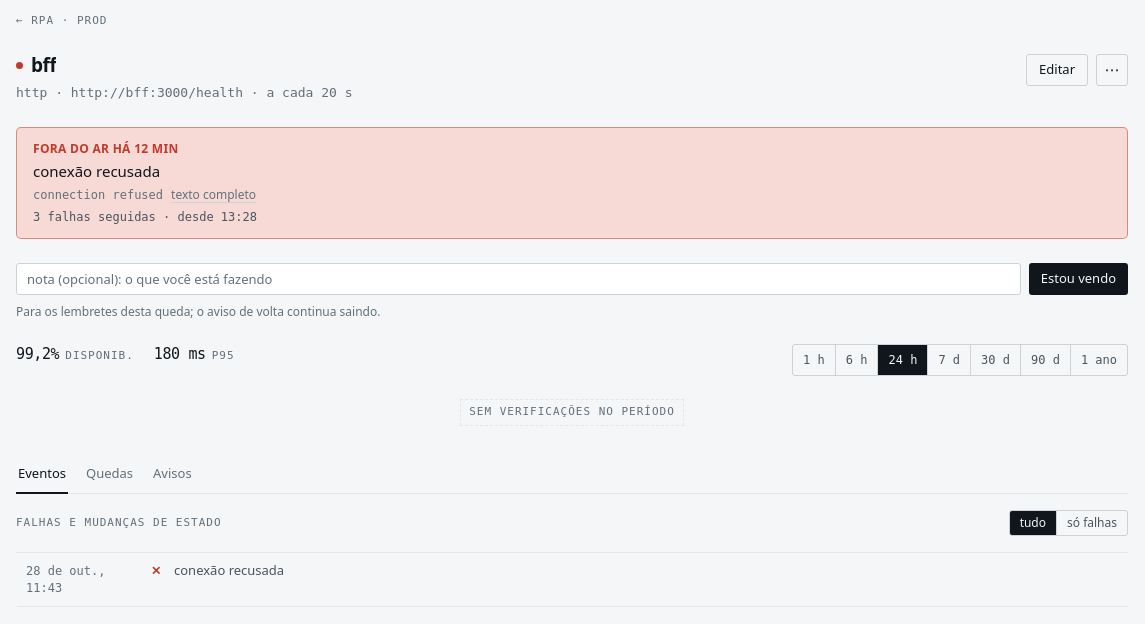
Test case: MonitorDetail: reconhecimento › registra o estou vendo pelo id da queda aberta, com a nota
Type "reiniciando a fila" into the field named "nota do reconhecimento" at (518, 279), box 16,263 -> 1021,295
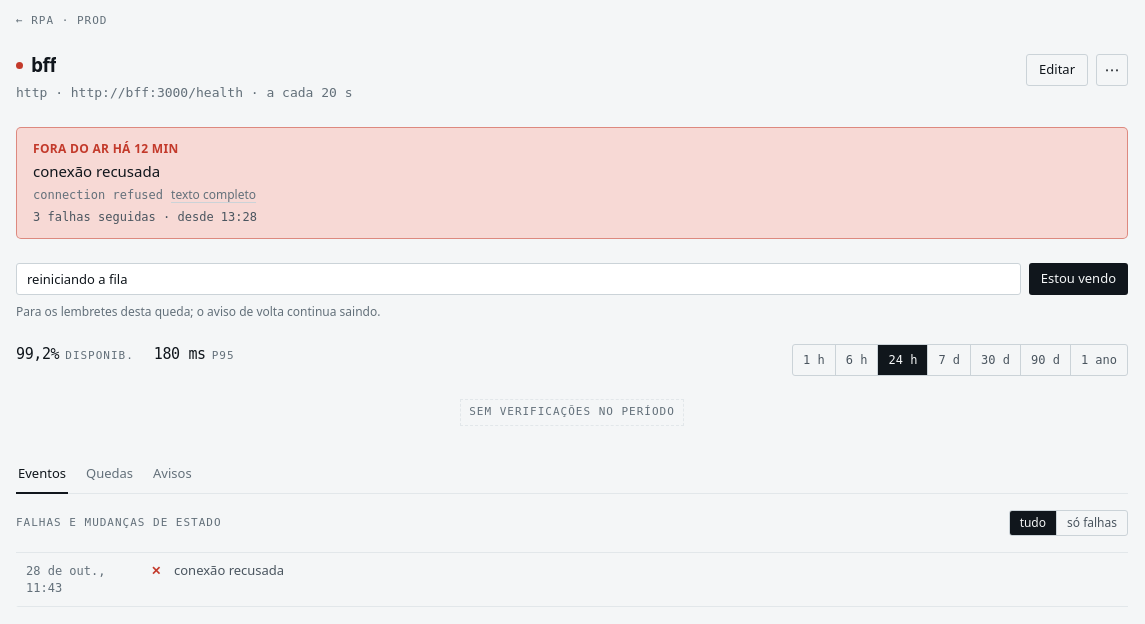
Click the button "Estou vendo" at (1078, 279), box 1029,263 -> 1128,295
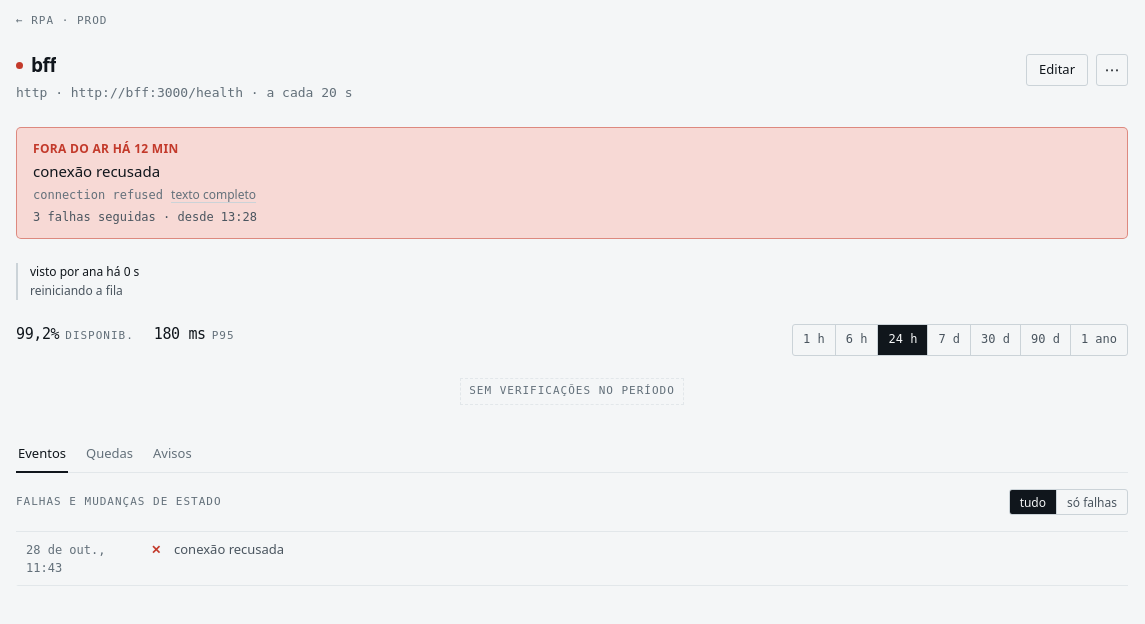
Now the text "visto por ana há 0 s" is shown, box 30,263 -> 139,280
Now the text "reiniciando a fila" is shown, box 30,282 -> 123,299
